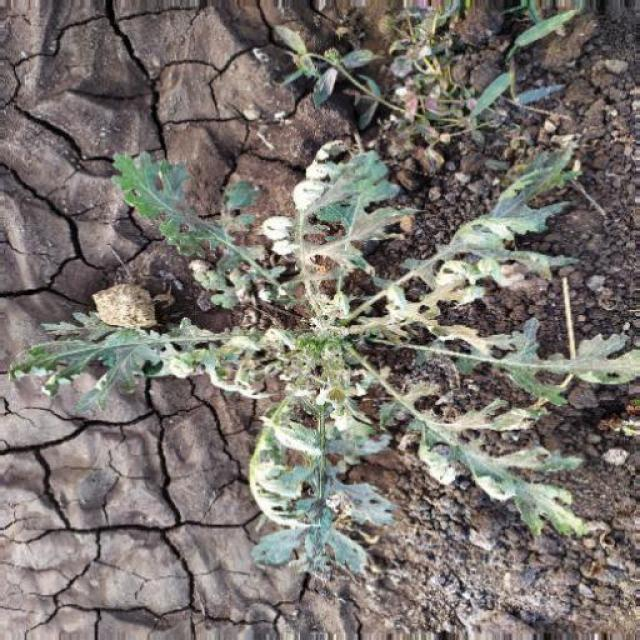weed: (47, 156, 635, 549)
